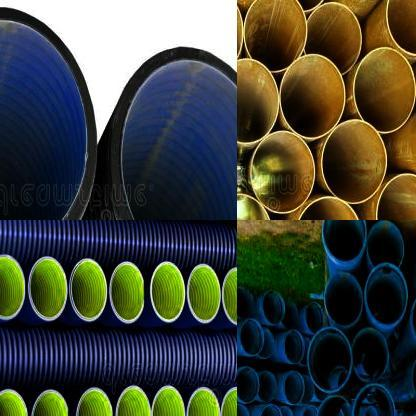pipe: (110, 46, 237, 220), (0, 6, 96, 220), (321, 120, 389, 204), (280, 54, 346, 140), (353, 46, 416, 134), (251, 130, 316, 214), (243, 0, 308, 73), (304, 2, 362, 74), (237, 58, 279, 143), (307, 327, 352, 393), (364, 262, 408, 326), (29, 256, 68, 321), (69, 258, 107, 322), (110, 261, 145, 324), (150, 262, 186, 322), (187, 264, 221, 323), (352, 328, 388, 382), (326, 272, 362, 326), (322, 220, 367, 263), (376, 173, 416, 220), (386, 0, 416, 57), (367, 220, 404, 266), (0, 255, 26, 319), (293, 196, 362, 220), (353, 383, 396, 416), (116, 385, 151, 416), (76, 387, 113, 416), (151, 385, 185, 416), (32, 390, 69, 416), (187, 387, 220, 416), (240, 318, 264, 356), (222, 267, 237, 325), (237, 366, 260, 403), (0, 388, 29, 416), (315, 395, 353, 416), (262, 290, 285, 324), (284, 329, 305, 364), (283, 0, 329, 15), (284, 372, 305, 404), (258, 371, 278, 402), (305, 302, 324, 334), (257, 328, 275, 360), (237, 286, 255, 317), (221, 387, 237, 416), (282, 300, 298, 328), (259, 404, 283, 416), (301, 406, 318, 416), (237, 403, 250, 416), (280, 405, 295, 416)
